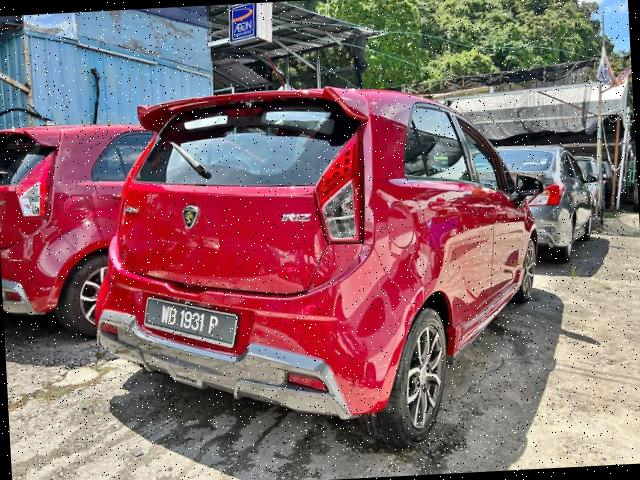License_Plate: (149, 296, 230, 345)
car: (85, 68, 557, 456), (1, 106, 229, 341)
